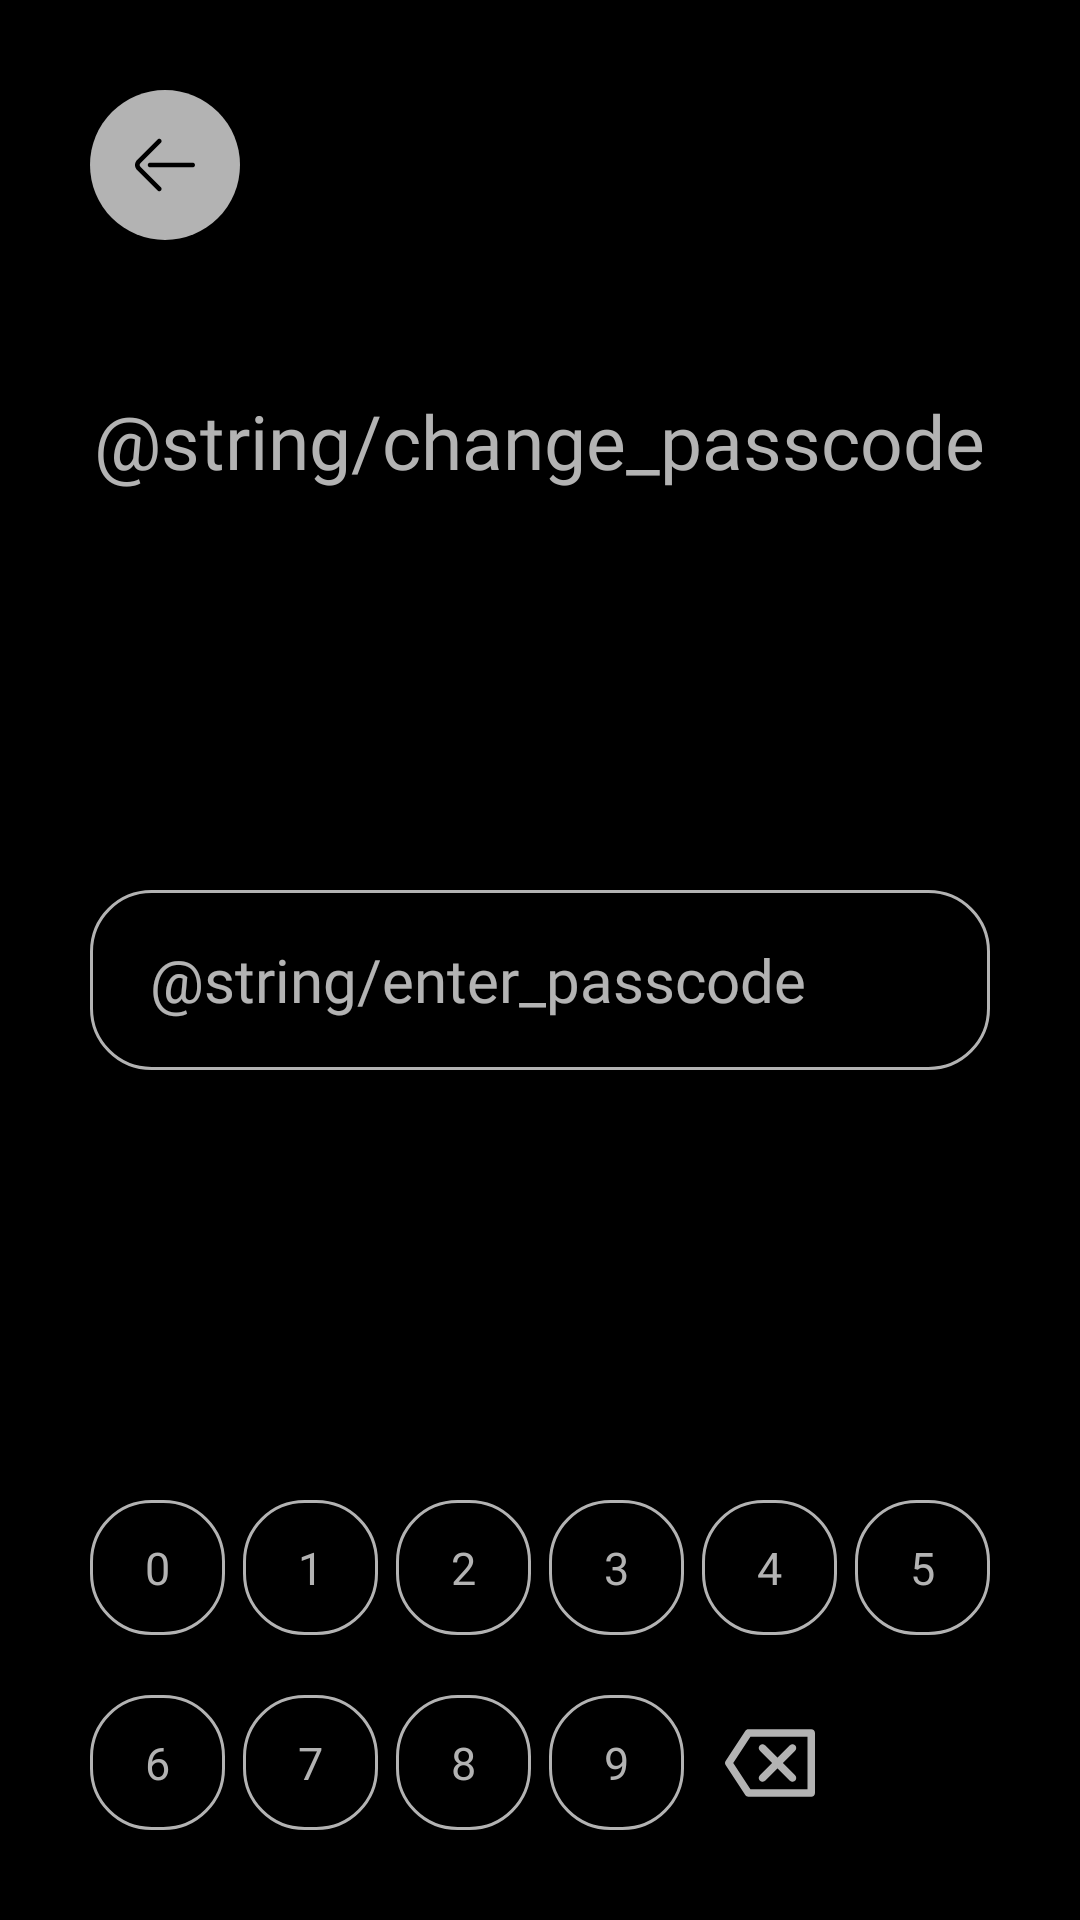

Screen size 1080 x 1920. Icon name, then its center in pixels as (x,y):
back: (165,165)
backspace: (770,1763)
